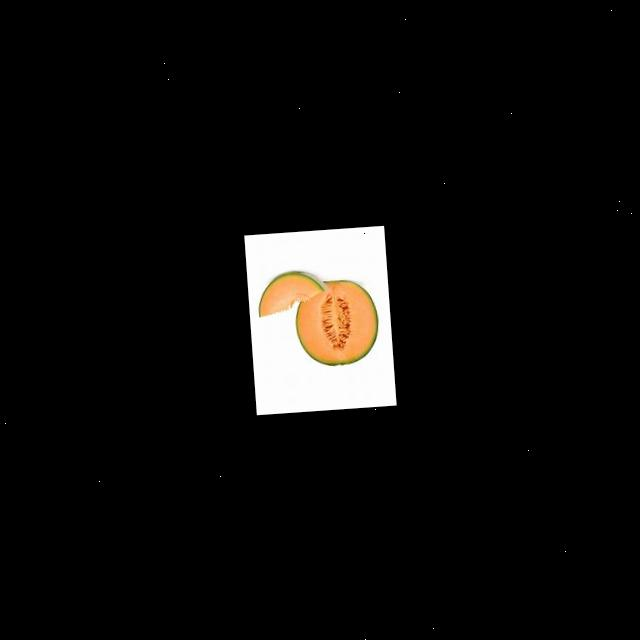Hami Melon: (292, 276, 382, 369), (255, 268, 328, 318)
